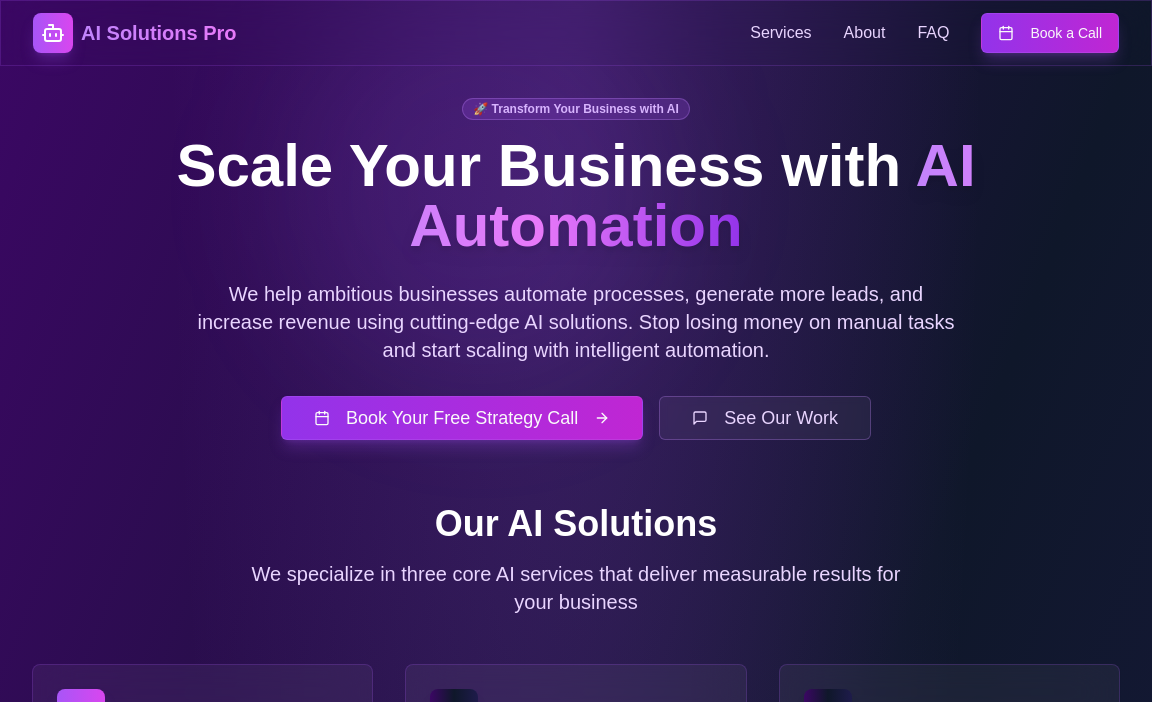
Test: Complete Booking Flow Integration › completes the full booking journey from hero section
Step 1. Click the button "Book Your Free Strategy Call" → (462, 418), box [281, 396, 643, 440]
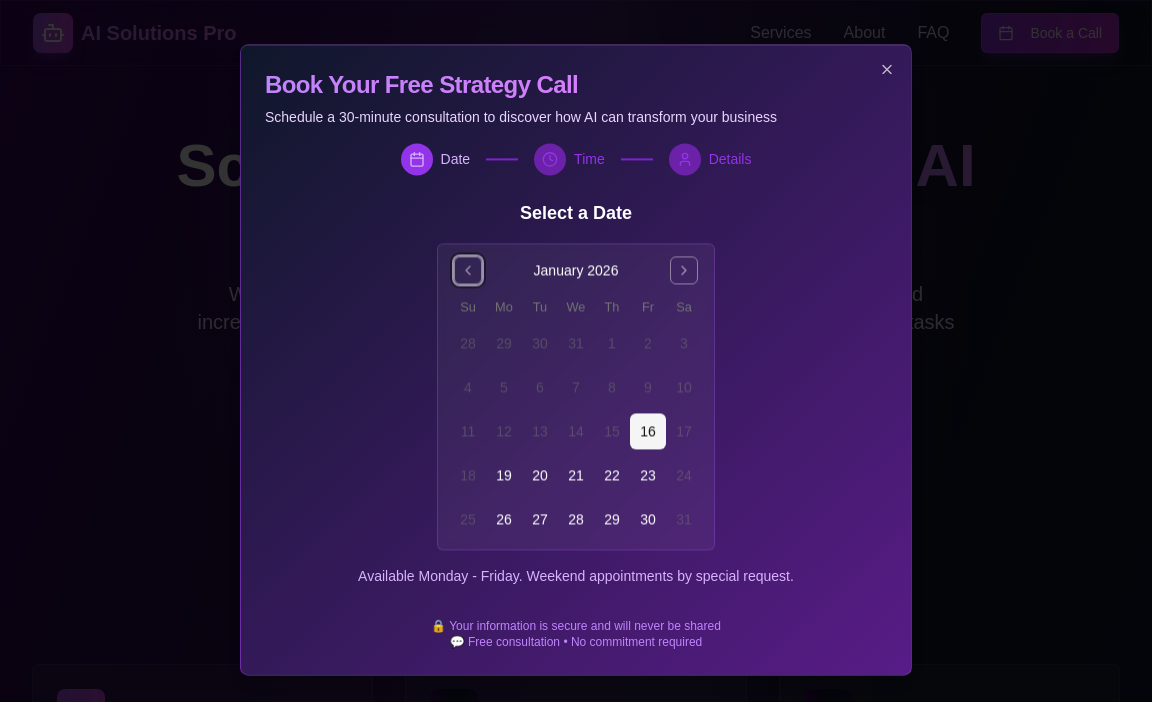
expect the dialog is shown: met, box [240, 44, 912, 676]
expect the heading "Select a Date" is shown: met, box [520, 203, 632, 223]
